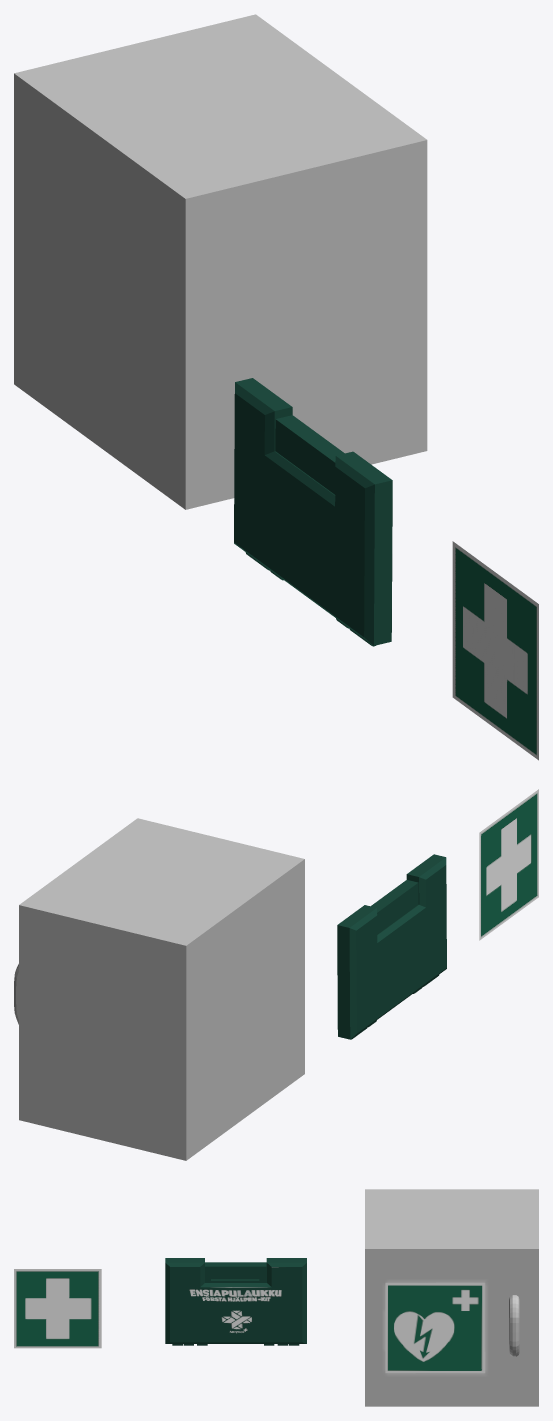
File: MedicalThingies.fbx
3 views of the same model, one above another, from view 1: azimuth 30°, elevation 25°; view 2: azimuth 150°, elevation 25°; view 3: azimuth 270°, elevation 25° (orthographic). The views are drawn at different scales.
Parts seen in each view (by area): view 1: Cube.001; view 2: Cube.001; view 3: Cube.001.
Part boxes in pixels (x1=…): Cube.001: x1=14, y1=14, x2=538, y2=760; Cube.001: x1=14, y1=789, x2=538, y2=1160; Cube.001: x1=14, y1=1189, x2=538, y2=1406.
Size of the model in its own units: 381 by 398 by 1199.
